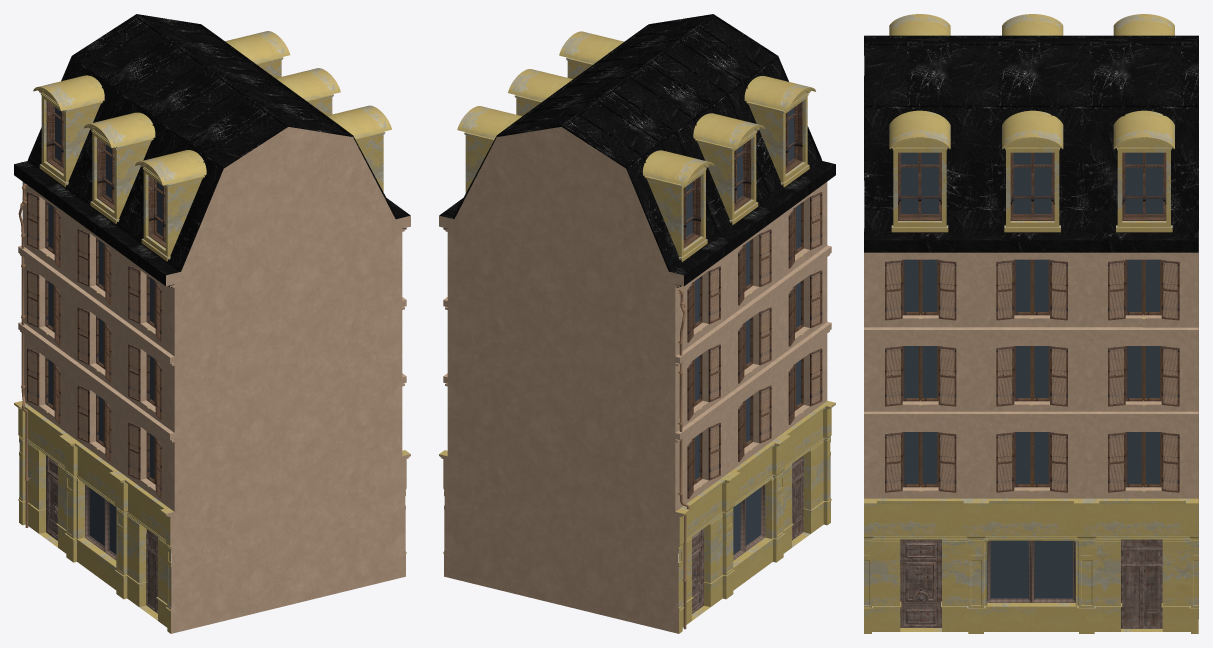
File: block_center.fbx
3 renders of one model, left to right at view 1: azimuth 30°, elevation 25°; view 2: azimuth 150°, elevation 25°; view 3: azimuth 270°, elevation 25°, orthographic. The views are drawn at different scales.
Parts seen in each view (by area): view 1: block_center; view 2: block_center; view 3: block_center.
Boxes of the visible parts, bbox=[...] form: block_center: bbox=[14, 14, 410, 633]; block_center: bbox=[439, 14, 835, 633]; block_center: bbox=[864, 14, 1198, 633].
Size of the model in its own units: 1024 by 1099 by 1916.
13 materials, 9 textured.
